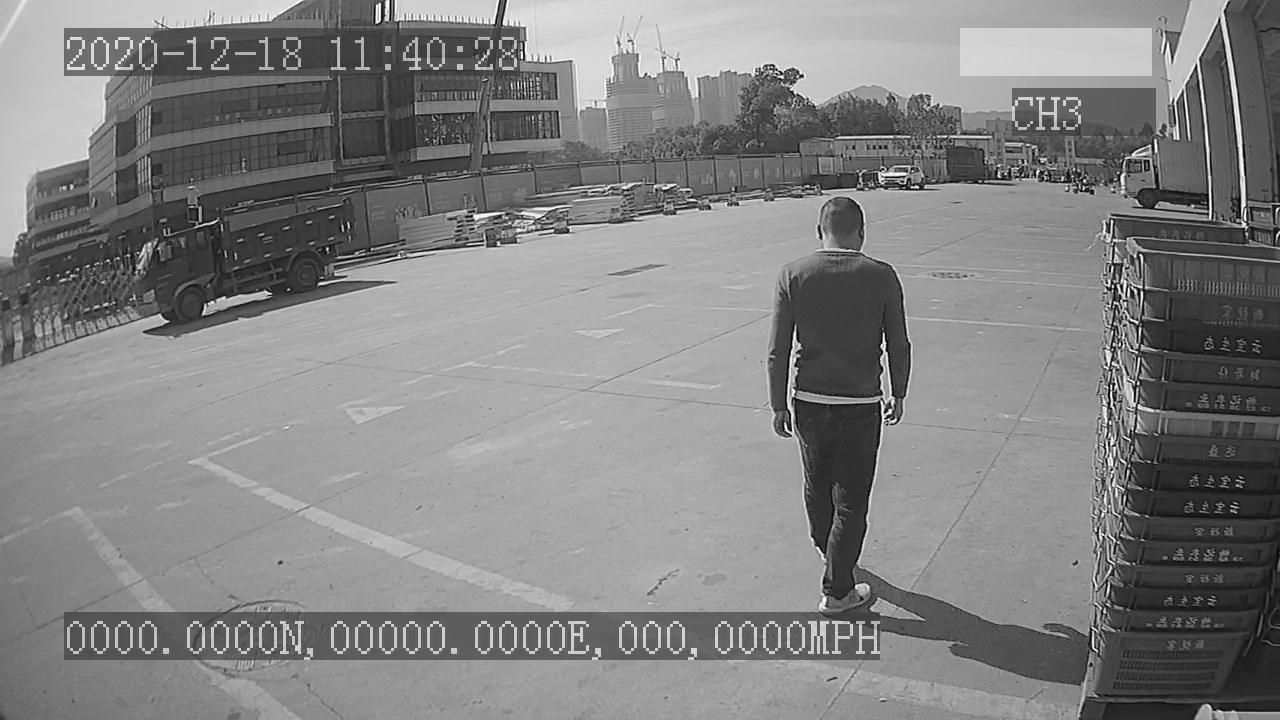person: (767, 197, 919, 612)
